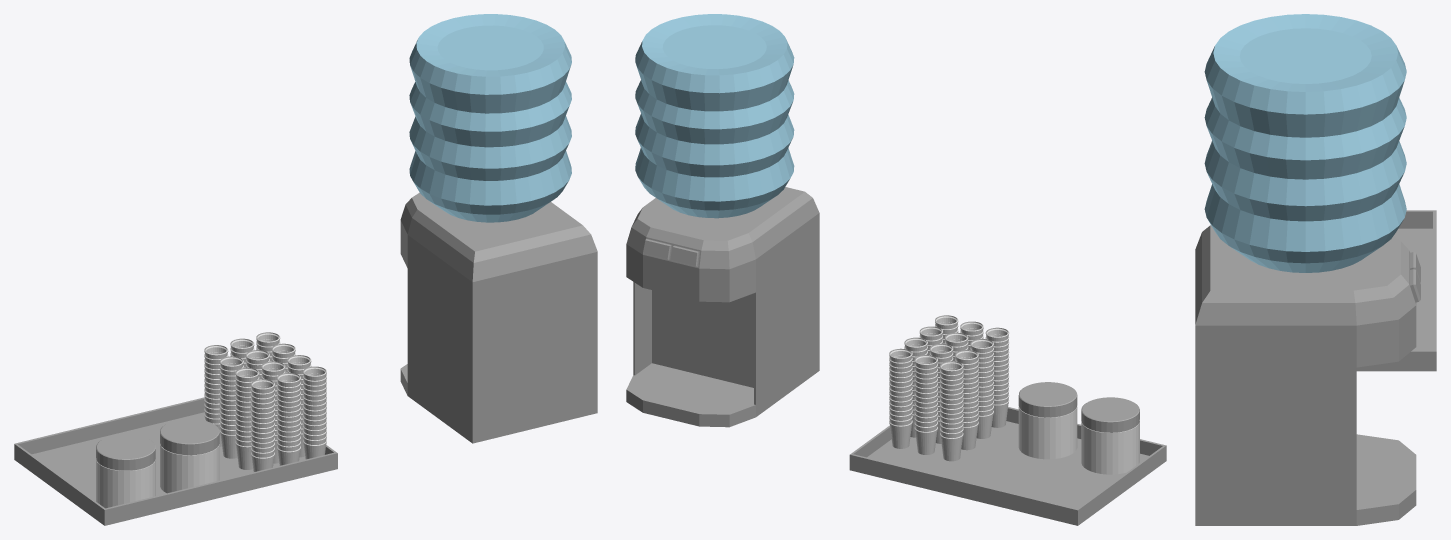
Rendered from bebedouro.fbx.
3 renders of one model, left to right at view 1: azimuth 30°, elevation 25°; view 2: azimuth 150°, elevation 25°; view 3: azimuth 270°, elevation 25°, orthographic. The views are drawn at different scales.
Parts seen in each view (by area): view 1: Cube.042, Cylinder, Cylinder.009, Cube.043, Cylinder.001, Cylinder.002; view 2: Cube.042, Cylinder, Cube.043, Cylinder.009, Cylinder.001, Cylinder.002; view 3: Cube.042, Cylinder, Cube.043.
Boxes of the visible parts, x1,y1,x2,y2 form: Cube.042: (400,192,597,443); Cylinder: (409,14,571,222); Cylinder.009: (204,332,326,471); Cube.043: (14,397,337,525); Cylinder.001: (160,419,219,493); Cylinder.002: (96,434,155,508); Cube.042: (626,187,819,427); Cylinder: (635,14,794,218); Cube.043: (849,407,1166,525); Cylinder.009: (889,315,1009,461); Cylinder.001: (1018,382,1077,459); Cylinder.002: (1081,397,1139,474); Cube.042: (1195,225,1420,525); Cylinder: (1204,14,1406,272); Cube.043: (1356,210,1436,371).
Bounding box in the file's own units: 343 × 233 × 117.
